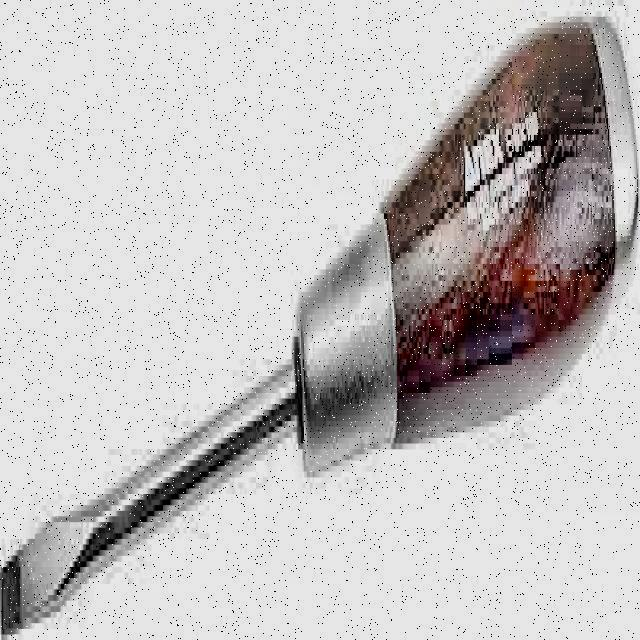screwdriver: (1, 18, 638, 634)
